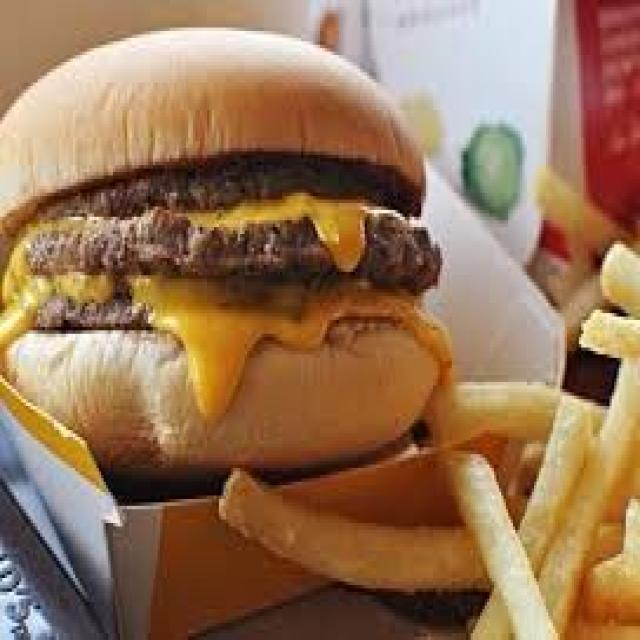감자튀김: (219, 310, 640, 640)
햄버거: (0, 31, 445, 465)
